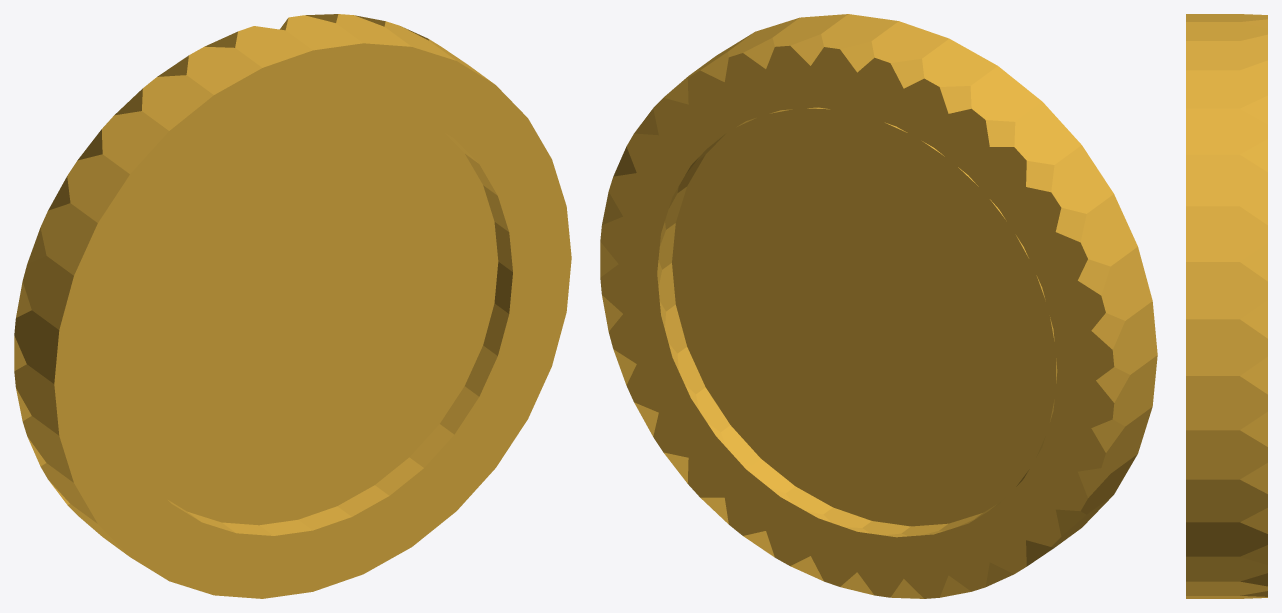
The model's file is Coin.fbx.
The picture shows the model from 3 angles, left to right: view 1: azimuth 30°, elevation 25°; view 2: azimuth 150°, elevation 25°; view 3: azimuth 270°, elevation 25°; orthographic projection. The views are drawn at different scales.
Parts seen in each view (by area): view 1: Cylinder; view 2: Cylinder; view 3: Cylinder.
Boxes of the visible parts, <box> form: Cylinder: <box>14,14,571,598</box>; Cylinder: <box>600,14,1157,598</box>; Cylinder: <box>1186,14,1267,598</box>.
Size of the model in its own units: 200 by 200 by 27.94.
